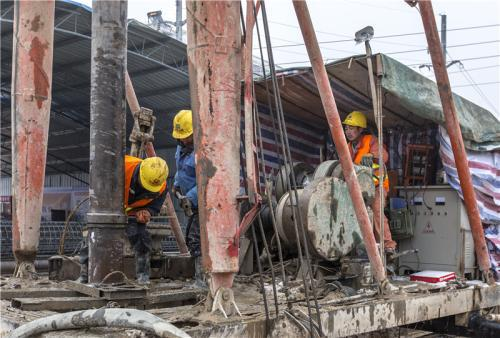helmet: (137, 152, 171, 193), (171, 106, 195, 152), (341, 108, 369, 144)
